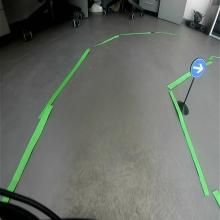right: (190, 58, 207, 78)
